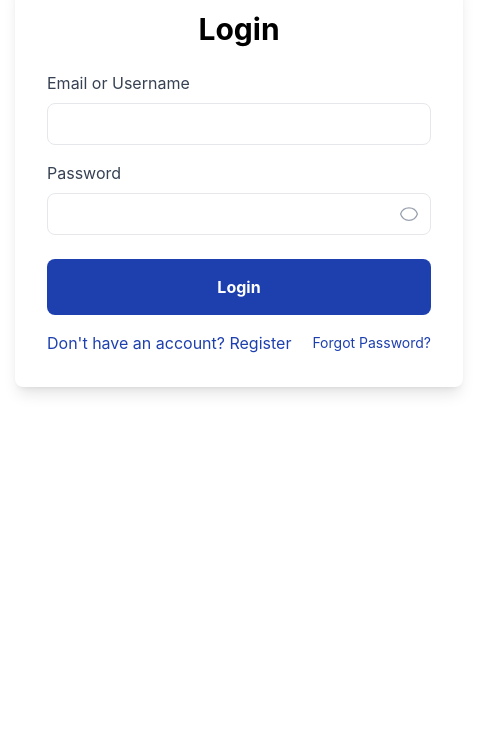
Test case: registration requires confirmation of the minimum age and legal terms
The image size is (479, 749).
Click the button "Don't have an account? Register".
click(169, 343)  # box [47, 331, 291, 355]
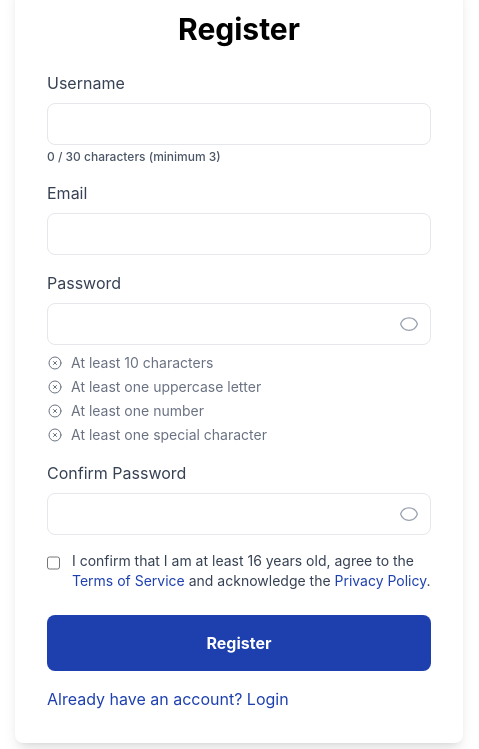
expect the checkbox labelled "at least 16 years old" is not checked: met, box [47, 555, 60, 571]
